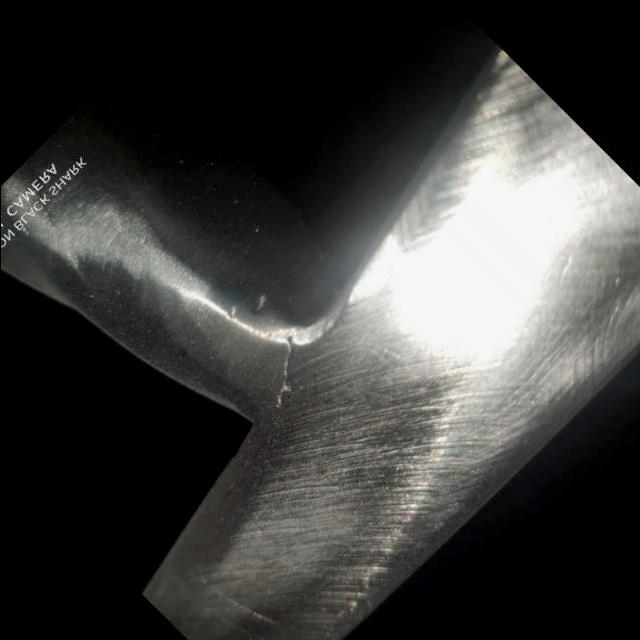defect: (271, 326, 301, 413)
